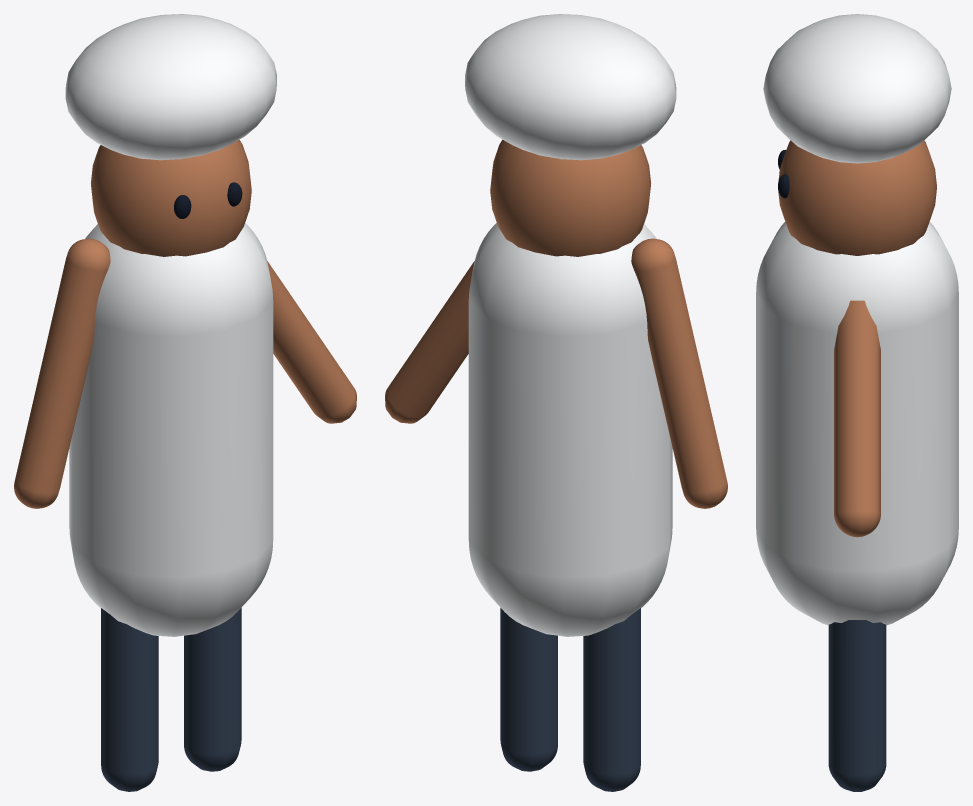
Rendered from teacher-guide-rig.glb.
3 views of the same model, side by side, from view 1: azimuth 30°, elevation 25°; view 2: azimuth 150°, elevation 25°; view 3: azimuth 270°, elevation 25° (orthographic).
Visible parts, largest first — view 1: white-chef-lab-coat, chef-hat, leg (×2), head-expressive, left-gesture-arm, right-pointing-arm; view 2: white-chef-lab-coat, chef-hat, leg (×2), head-expressive, left-gesture-arm, right-pointing-arm; view 3: white-chef-lab-coat, chef-hat, head-expressive, right-pointing-arm, leg.
Boxes of the visible parts, bbox=[...] form: white-chef-lab-coat: bbox=[69, 223, 273, 636]; chef-hat: bbox=[65, 14, 276, 160]; leg (×2): bbox=[101, 608, 241, 791]; head-expressive: bbox=[91, 139, 251, 256]; left-gesture-arm: bbox=[14, 238, 110, 508]; right-pointing-arm: bbox=[267, 261, 356, 423]; white-chef-lab-coat: bbox=[468, 223, 672, 636]; chef-hat: bbox=[465, 14, 676, 160]; leg (×2): bbox=[500, 608, 640, 791]; head-expressive: bbox=[490, 139, 650, 256]; left-gesture-arm: bbox=[631, 238, 727, 508]; right-pointing-arm: bbox=[385, 261, 474, 423]; white-chef-lab-coat: bbox=[756, 222, 958, 625]; chef-hat: bbox=[763, 14, 951, 163]; head-expressive: bbox=[778, 140, 936, 255]; right-pointing-arm: bbox=[834, 300, 880, 537]; leg: bbox=[828, 620, 886, 791].
Size of the model in its own units: 1.05 by 2.26 by 0.56.
